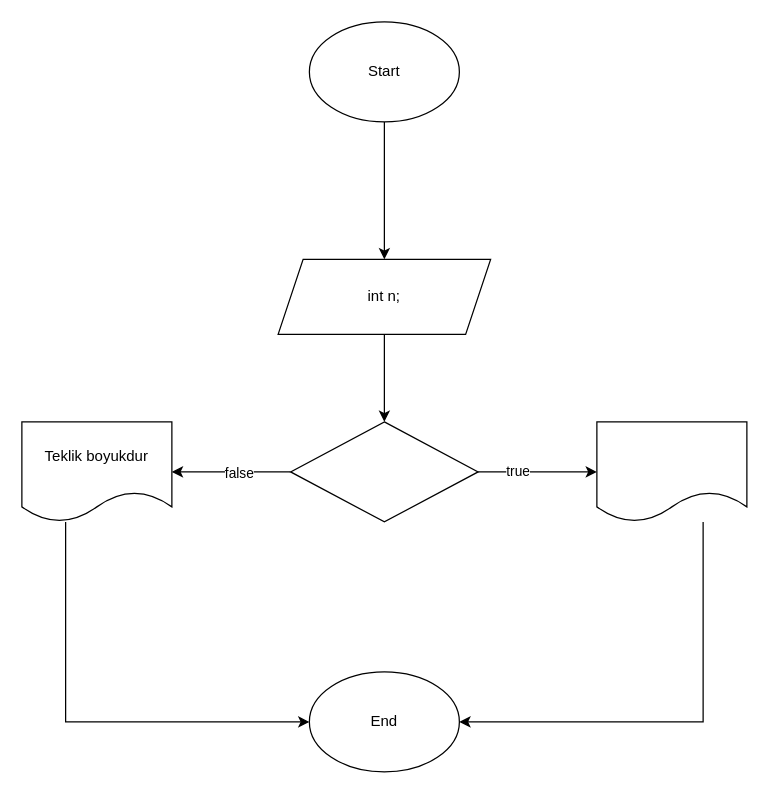
Some shapes in this 769 by 794 pixel diagram are drawn without their labels. The shapes that lost their labels are listed below. From the top down, each one's centre as x and y in pixels, then its label:
the point at 383,471: n/10>n%10
the point at 671,471: Onluq boyukdur
